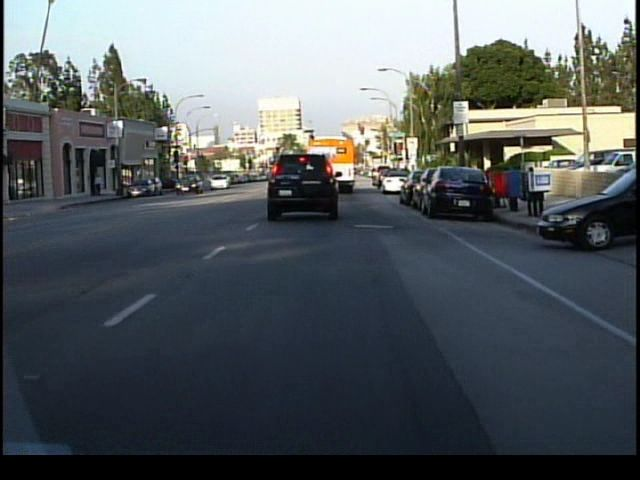car: (544, 164, 640, 249), (259, 149, 340, 216), (420, 166, 490, 219), (380, 171, 407, 195), (125, 178, 154, 199), (175, 174, 205, 194), (205, 171, 231, 190)
strada: (1, 206, 566, 454)
